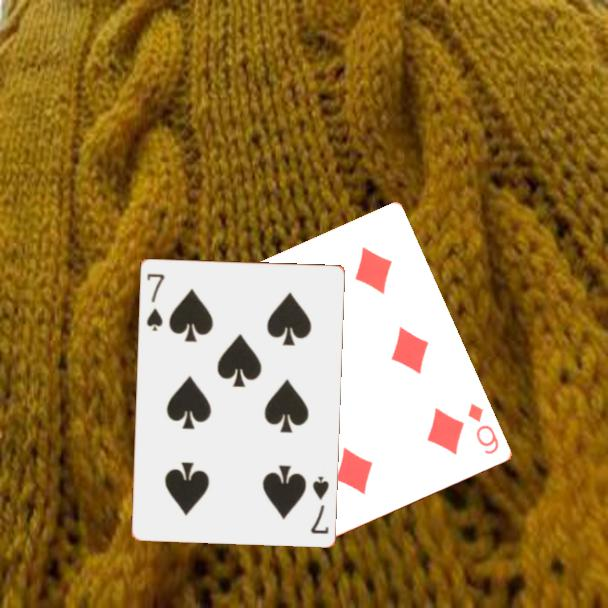d06: (465, 400, 502, 458)
s07: (143, 270, 167, 333), (307, 473, 331, 536)
